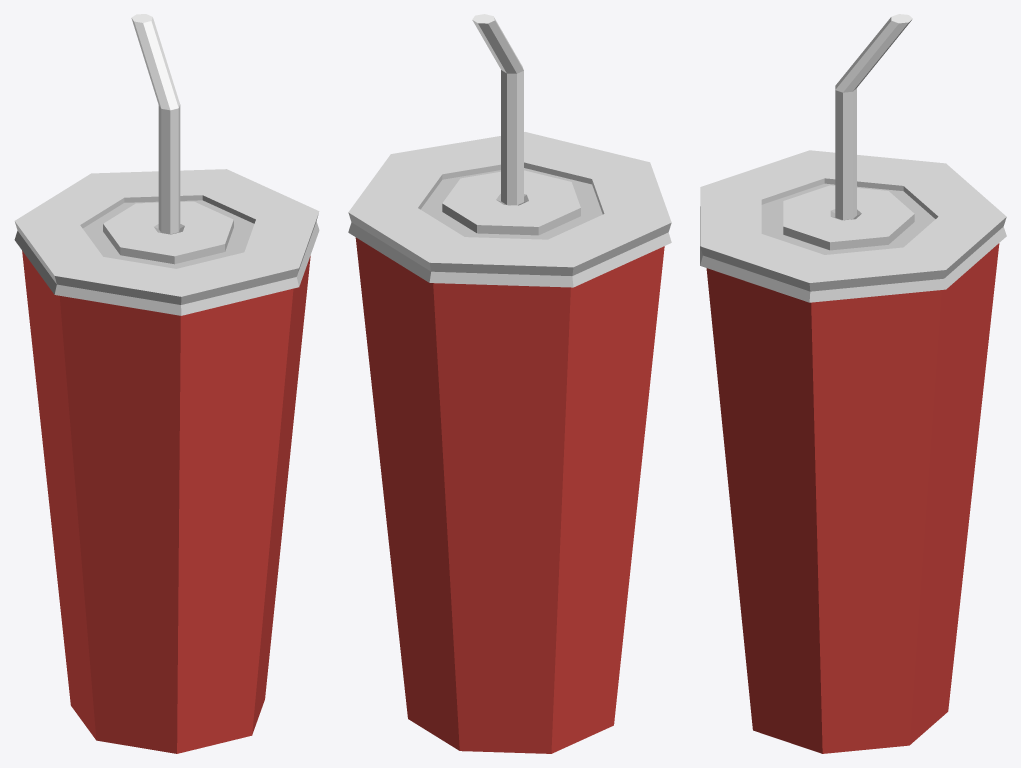
Rendered from SM_Food_Soda_01.fbx.
The picture shows the model from 3 angles, left to right: view 1: azimuth 30°, elevation 25°; view 2: azimuth 150°, elevation 25°; view 3: azimuth 270°, elevation 25°; orthographic projection. The views are drawn at different scales.
Parts seen in each view (by area): view 1: SM_Food_Soda_01; view 2: SM_Food_Soda_01; view 3: SM_Food_Soda_01.
Boxes of the visible parts, x1,y1,x2,y2 form: SM_Food_Soda_01: (14,14,319,753); SM_Food_Soda_01: (348,14,671,753); SM_Food_Soda_01: (700,14,1006,753).
Size of the model in its own units: 12.34 by 29.97 by 12.03.
